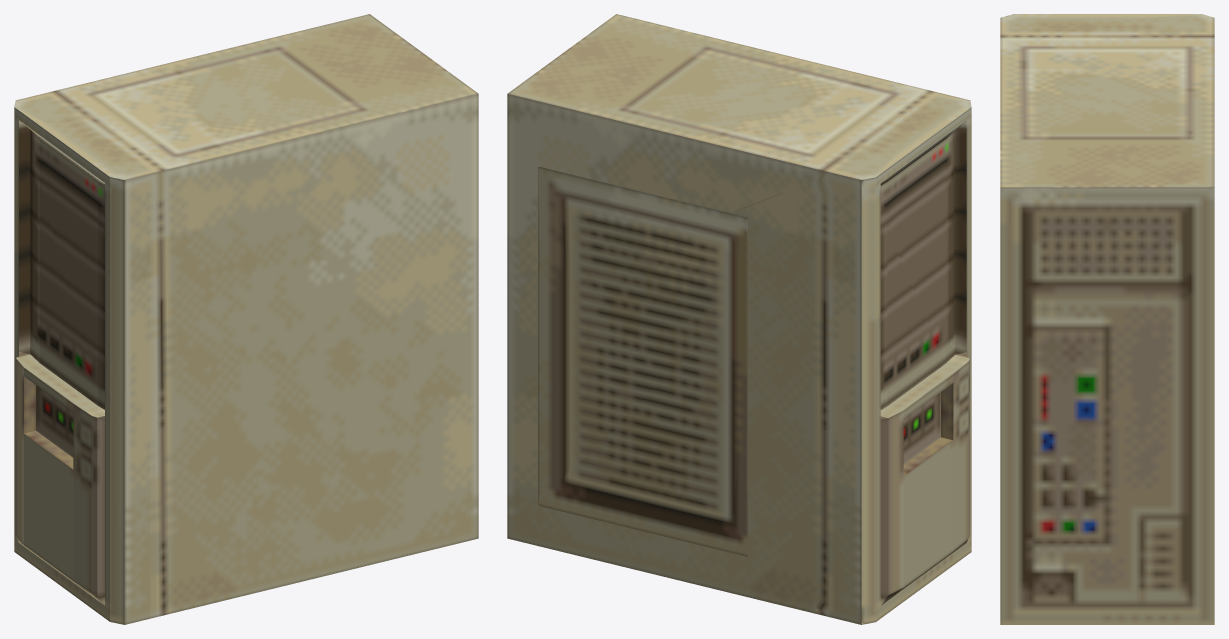
Rendered from sys_block.fbx.
3 views of the same model, side by side, from view 1: azimuth 30°, elevation 25°; view 2: azimuth 150°, elevation 25°; view 3: azimuth 270°, elevation 25° (orthographic).
Parts seen in each view (by area): view 1: Cube; view 2: Cube; view 3: Cube.
Boxes of the visible parts, x1=… form: Cube: x1=14, y1=14, x2=478, y2=624; Cube: x1=507, y1=14, x2=971, y2=624; Cube: x1=1000, y1=14, x2=1214, y2=624.
Bounding box in the file's own units: 210 × 240 × 107.
